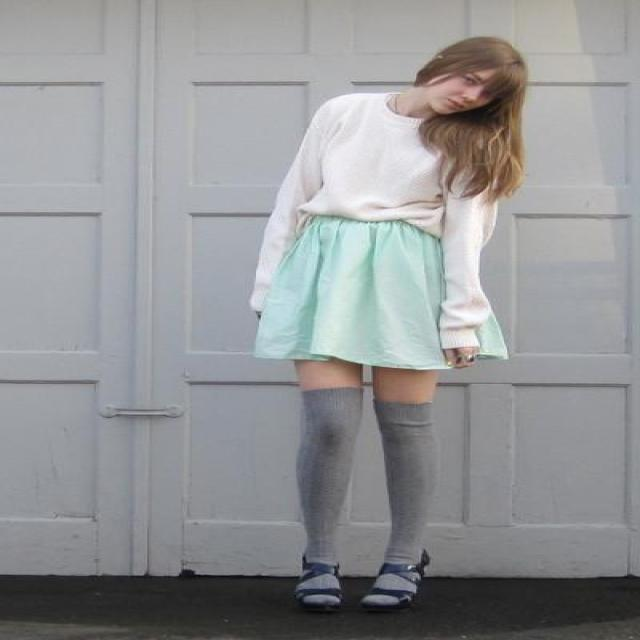shirt: (258, 93, 496, 324)
shoe: (280, 554, 424, 618)
skirt: (250, 209, 472, 370)
